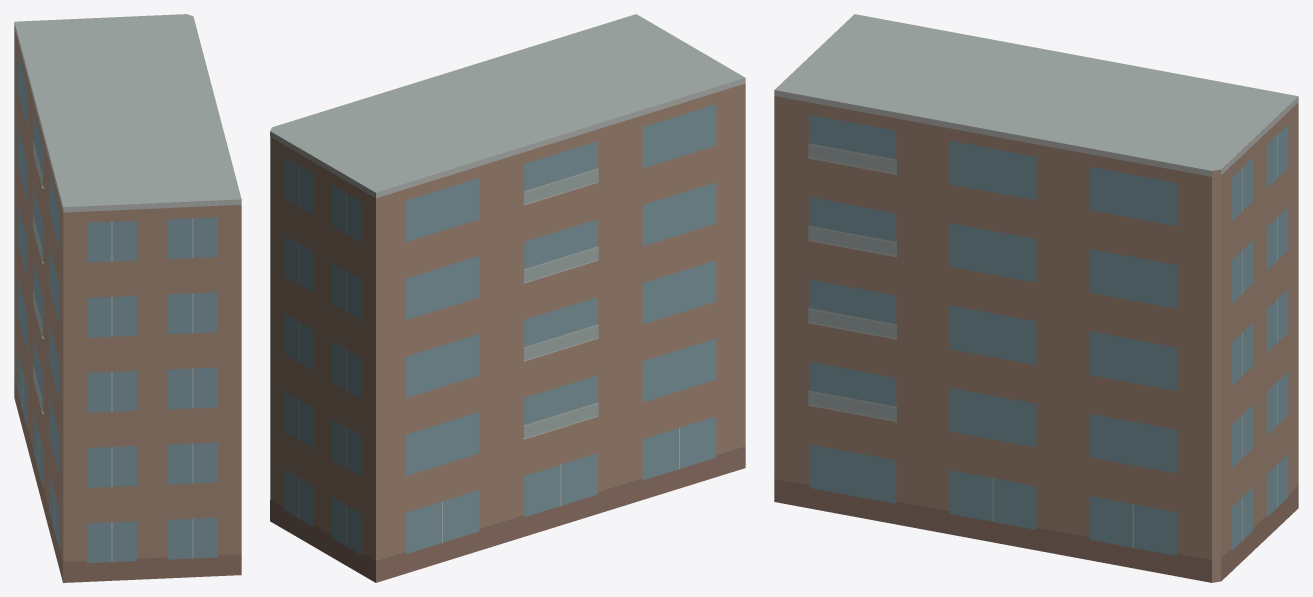
File: survey-upis-32526536.glb
3 renders of one model, left to right at view 1: azimuth 30°, elevation 25°; view 2: azimuth 150°, elevation 25°; view 3: azimuth 270°, elevation 25°, orthographic. The views are drawn at different scales.
Parts seen in each view (by area): view 1: survey-upis-32526536.tmp; view 2: survey-upis-32526536.tmp; view 3: survey-upis-32526536.tmp.
Part boxes in pixels (x1,y1,x2,y2): survey-upis-32526536.tmp: (14, 14, 241, 582); survey-upis-32526536.tmp: (270, 14, 745, 582); survey-upis-32526536.tmp: (774, 14, 1298, 582).
Size of the model in its own units: 13.9 by 17 by 19.62.
